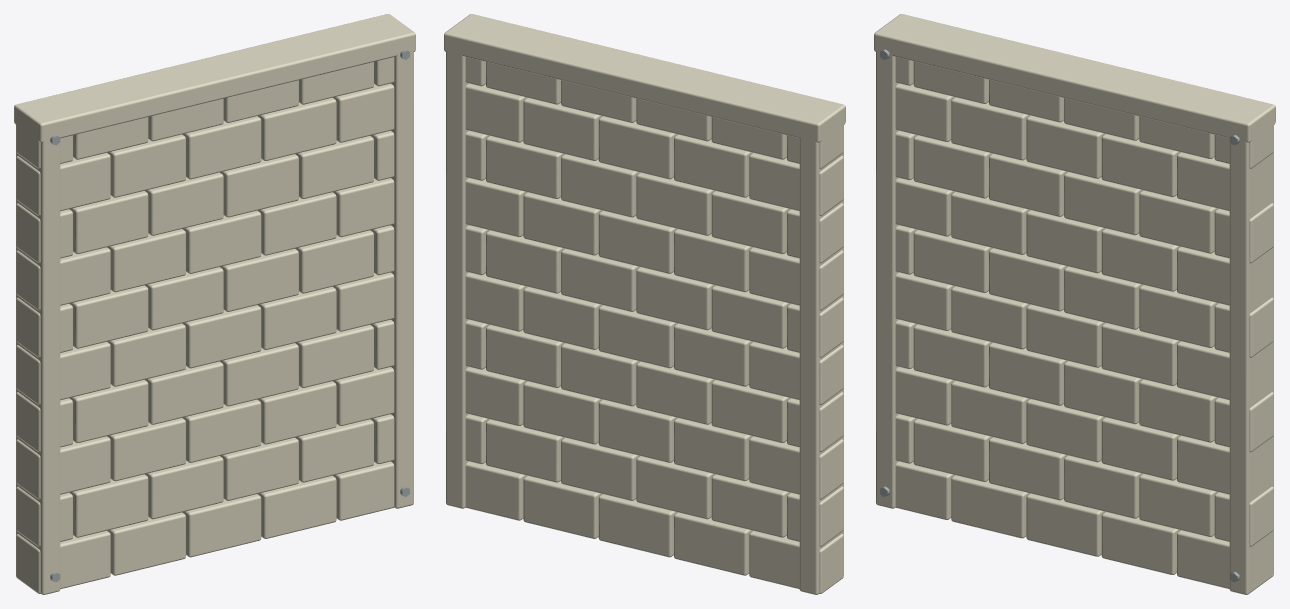
Rendered from stone-cottage-wall.glb.
3 renders of one model, left to right at view 1: azimuth 30°, elevation 25°; view 2: azimuth 150°, elevation 25°; view 3: azimuth 330°, elevation 25°, orthographic.
Visible parts, largest first — view 1: stone-cottage-solid-wall; view 2: stone-cottage-solid-wall; view 3: stone-cottage-solid-wall.
Part boxes in pixels (x1,y1,x2,y2): stone-cottage-solid-wall: (14, 14, 415, 594); stone-cottage-solid-wall: (444, 14, 845, 594); stone-cottage-solid-wall: (874, 14, 1275, 594).
Bounding box in the file's own units: 2 × 2.4 × 0.2774.
